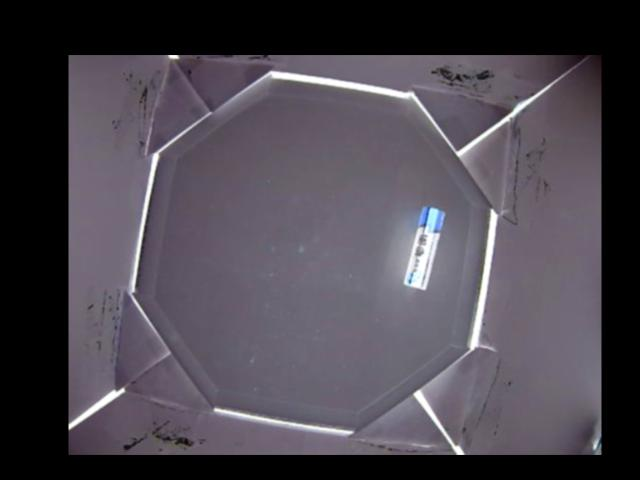Battery: (402, 207, 446, 290)
